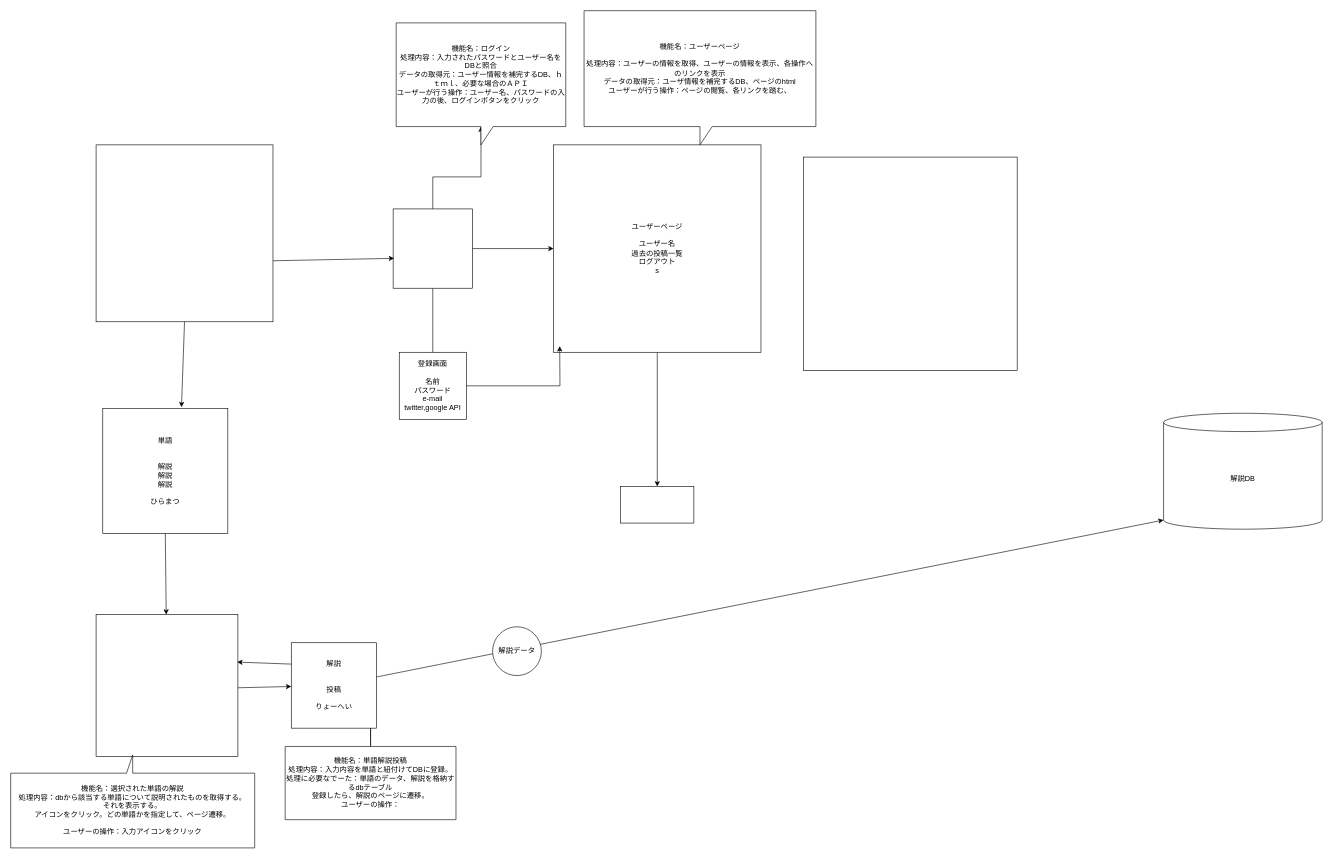
This 1333x859 diagram has some shape labels left out. The shapes that lost their labels are listed below. From the top down, each one's centre as x and y in pixels, then its label:
At [184,233]: "ホーム画面 検索窓 単語がずらり ひらまつ".
At [432,248]: "ログイン パスワード ユーザー名 ひろみ".
At [910,263]: "機能名 処理内容 処理に必要なデータ データの取得元 ユーザーが行い操作".
At [657,504]: "ログインした状態".
At [166,685]: "単語の解説 書き込むアイコン りょーへい".
